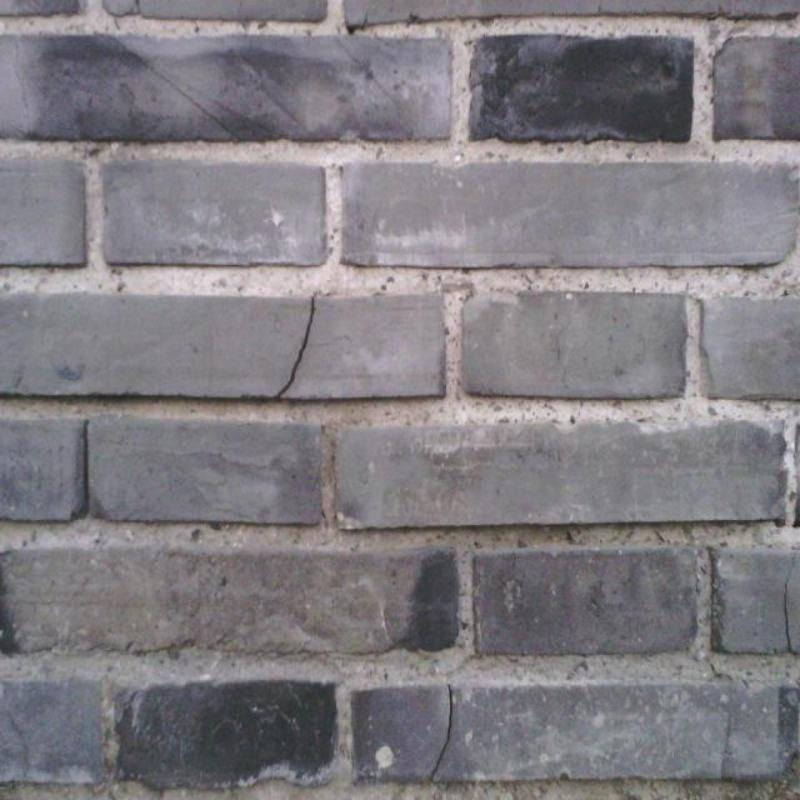pothole: (277, 296, 316, 397), (428, 685, 453, 781), (784, 558, 795, 652), (82, 420, 91, 511)
